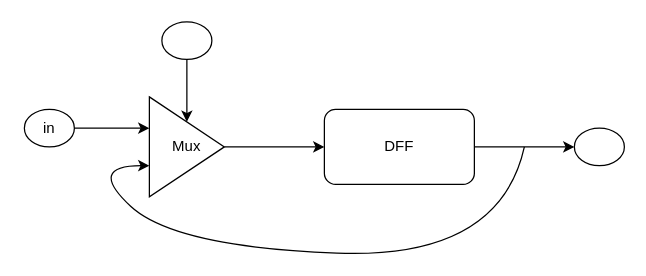
Some shapes in this 646 by 276 pixel diagram are drawn without their labels. The centre of each missing label's shape, as x and y in pixels:
"load" goes at [186,40].
"out" goes at [598,146].
